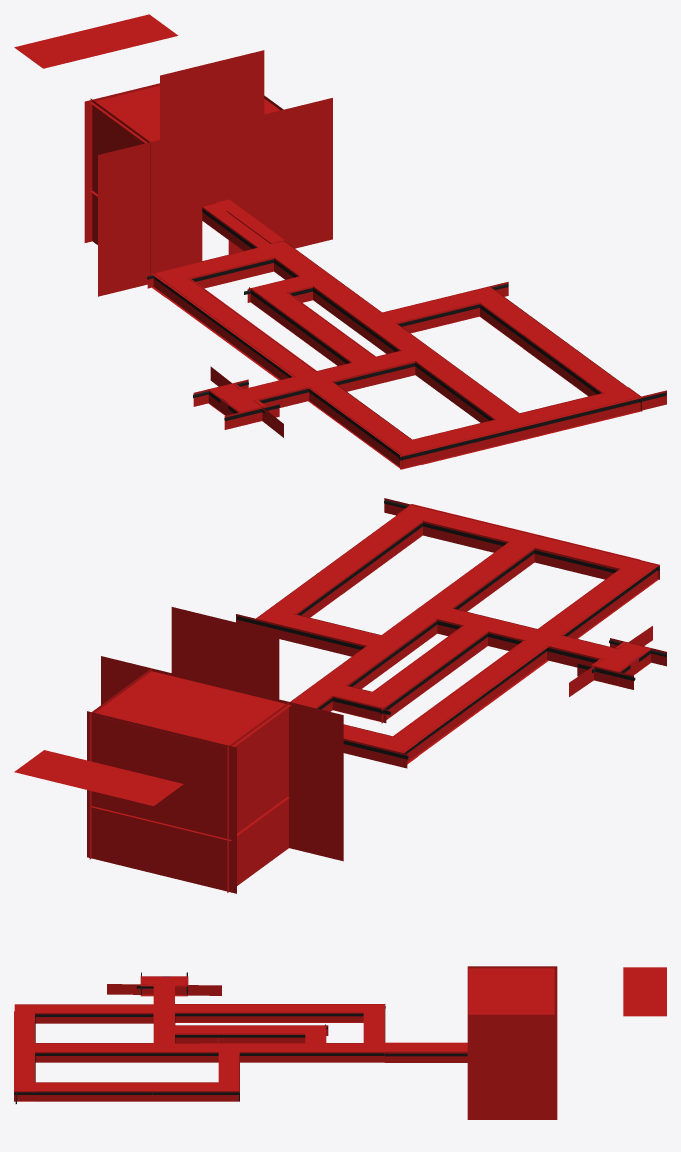
File: mavoch.fbx
3 renders of one model, top to bottom at view 1: azimuth 30°, elevation 25°; view 2: azimuth 150°, elevation 25°; view 3: azimuth 270°, elevation 25°, orthographic. The views are drawn at different scales.
Parts seen in each view (by area): view 1: Plane_169, Plane_168, Plane_170, Plane_49, Plane_50, Plane_48, Plane_51, Plane_52, Plane_95, Plane_96, Plane_167, Plane_136 (+32 smaller); view 2: Plane_51, Plane_169, Plane_50, Plane_48, Plane_170, Plane_49, Plane_168, Plane_107, Plane_102, Plane_101, Plane_167, Plane_136 (+36 smaller); view 3: Plane_47, Plane_50, Plane_49, Plane_98, Plane_99, Plane_48, Plane_120, Plane_126, Plane_167, Plane_147, Plane_148, Plane_150 (+52 smaller).
Boxes of the visible parts, x1,y1,x2,y2 form: Plane_169: (98, 129, 202, 296); Plane_168: (228, 98, 332, 254); Plane_170: (160, 50, 264, 216); Plane_49: (14, 14, 178, 68); Plane_50: (90, 85, 280, 143); Plane_48: (90, 98, 150, 273); Plane_51: (84, 83, 159, 242); Plane_52: (189, 257, 273, 288); Plane_95: (332, 361, 415, 391); Plane_96: (396, 302, 481, 333); Plane_167: (208, 383, 265, 412); Plane_136: (165, 278, 222, 307); Plane_51: (87, 711, 236, 893); Plane_169: (236, 689, 343, 861); Plane_50: (95, 671, 290, 746); Plane_48: (227, 702, 288, 892); Plane_170: (171, 607, 279, 701); Plane_49: (14, 750, 183, 805); Plane_168: (101, 656, 208, 704); Plane_107: (236, 614, 366, 656); Plane_102: (534, 548, 620, 579); Plane_101: (421, 520, 508, 552); Plane_167: (591, 642, 651, 671); Plane_136: (393, 711, 451, 742); Plane_47: (467, 1014, 557, 1119); Plane_50: (468, 968, 554, 1014); Plane_49: (623, 967, 666, 1016); Plane_98: (145, 1052, 218, 1062); Plane_99: (72, 1052, 145, 1062); Plane_48: (467, 966, 557, 1014); Plane_120: (298, 1012, 363, 1022); Plane_126: (175, 985, 221, 995); Plane_167: (140, 976, 187, 986); Plane_147: (258, 1025, 306, 1034); Plane_148: (211, 1025, 258, 1034); Plane_150: (218, 1051, 239, 1071).
Bounding box in the file's own units: 10580 × 5817 × 22487.
